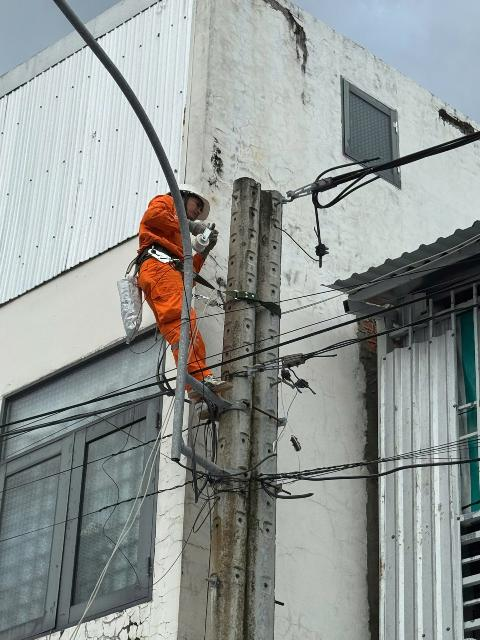gloves: (198, 230, 223, 258), (183, 217, 214, 236)
harness: (127, 244, 189, 273)
helmet: (171, 172, 216, 220)
shoes: (189, 373, 233, 396), (190, 395, 224, 415)
